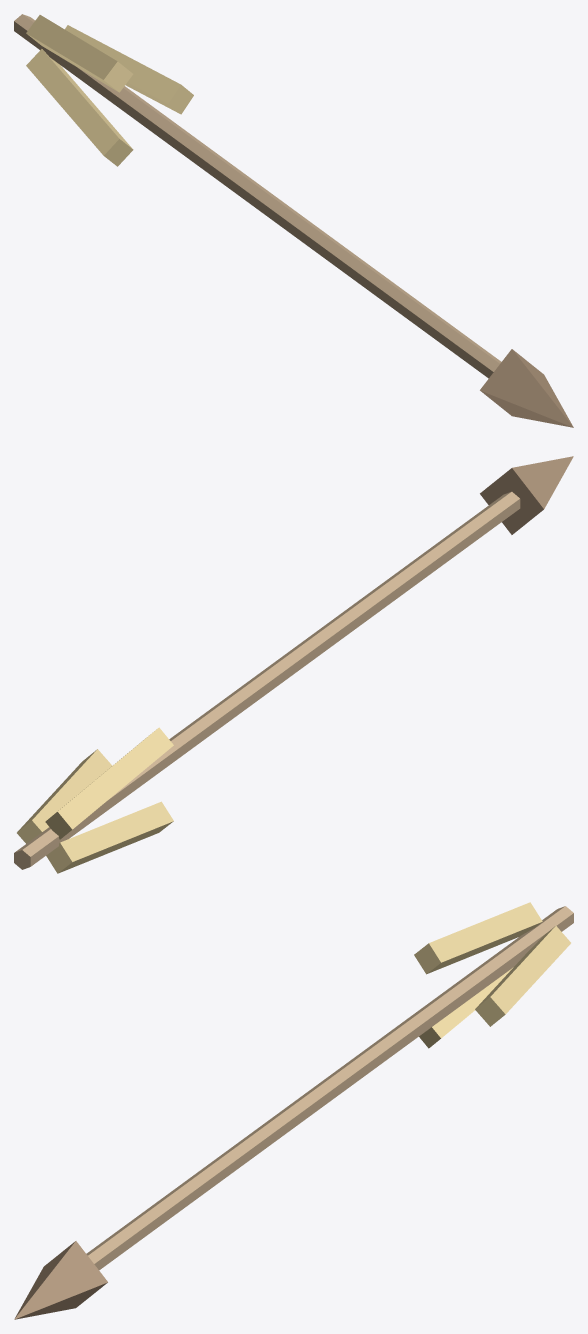
Rendered from arrow.glb.
The picture shows the model from 3 angles, top to bottom: view 1: azimuth 30°, elevation 25°; view 2: azimuth 150°, elevation 25°; view 3: azimuth 330°, elevation 25°; orthographic projection.
Visible parts, largest first — view 1: arrow_wood, arrow_feather, arrow_iron; view 2: arrow_wood, arrow_feather, arrow_iron; view 3: arrow_wood, arrow_feather, arrow_iron.
Part boxes in pixels (left/top/right/bottom): arrow_wood: left=14, top=14, right=501, bottom=378; arrow_feather: left=26, top=15, right=193, bottom=166; arrow_iron: left=480, top=349, right=573, bottom=427; arrow_wood: left=14, top=491, right=520, bottom=869; arrow_feather: left=17, top=727, right=173, bottom=873; arrow_iron: left=480, top=456, right=573, bottom=534; arrow_wood: left=86, top=906, right=573, bottom=1270; arrow_feather: left=414, top=902, right=570, bottom=1048; arrow_iron: left=14, top=1241, right=107, bottom=1319.
Bounding box in the file's own units: 0.0254 × 0.0281 × 0.2667.
